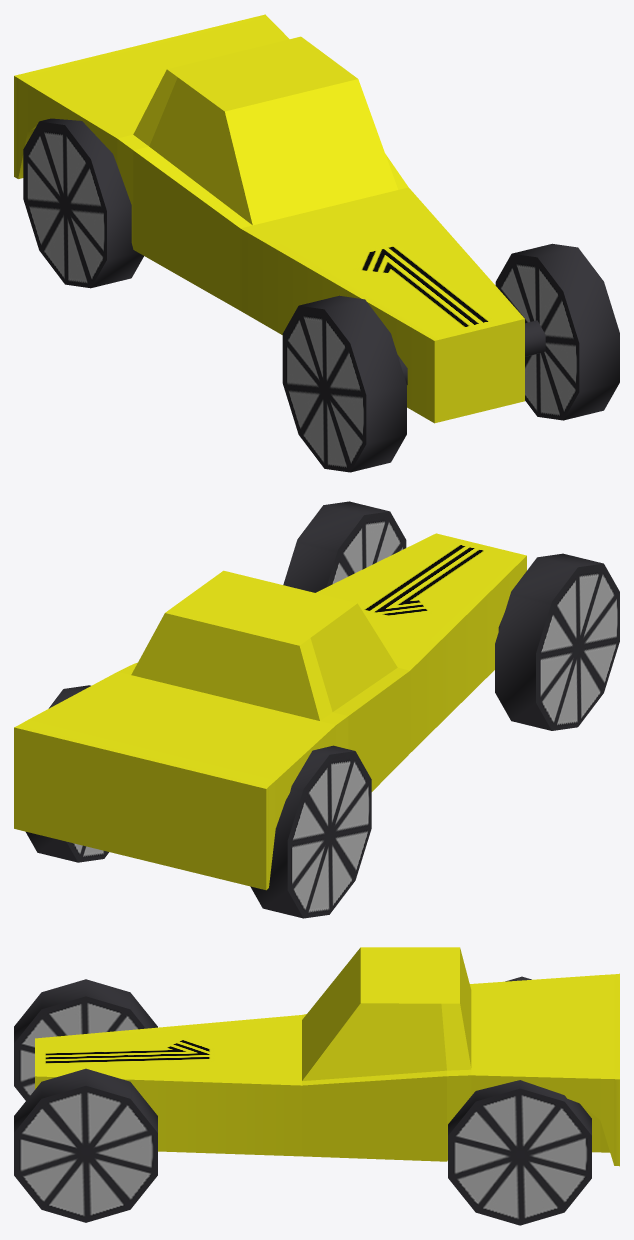
Rendered from Racer 1.fbx.
3 renders of one model, top to bottom at view 1: azimuth 30°, elevation 25°; view 2: azimuth 150°, elevation 25°; view 3: azimuth 270°, elevation 25°, orthographic. The views are drawn at different scales.
Visible parts, largest first — view 1: Racer, FRWheel, FLWheel, BRWheel; view 2: Racer, FRWheel, BRWheel, FLWheel, BLWheel; view 3: Racer, FLWheel, BLWheel, FRWheel.
Part boxes in pixels (x1,y1,x2,y2): Racer: (14, 14, 545, 423); FRWheel: (282, 295, 406, 472); FLWheel: (495, 243, 619, 420); BRWheel: (23, 118, 143, 288); Racer: (14, 533, 526, 890); FRWheel: (495, 553, 619, 730); BRWheel: (250, 745, 371, 918); FLWheel: (283, 501, 406, 592); BLWheel: (26, 685, 108, 862); Racer: (35, 947, 619, 1166); FLWheel: (14, 1068, 157, 1222); BLWheel: (448, 1080, 591, 1225); FRWheel: (14, 979, 157, 1100).
Size of the model in its own units: 141 by 114 by 322.
